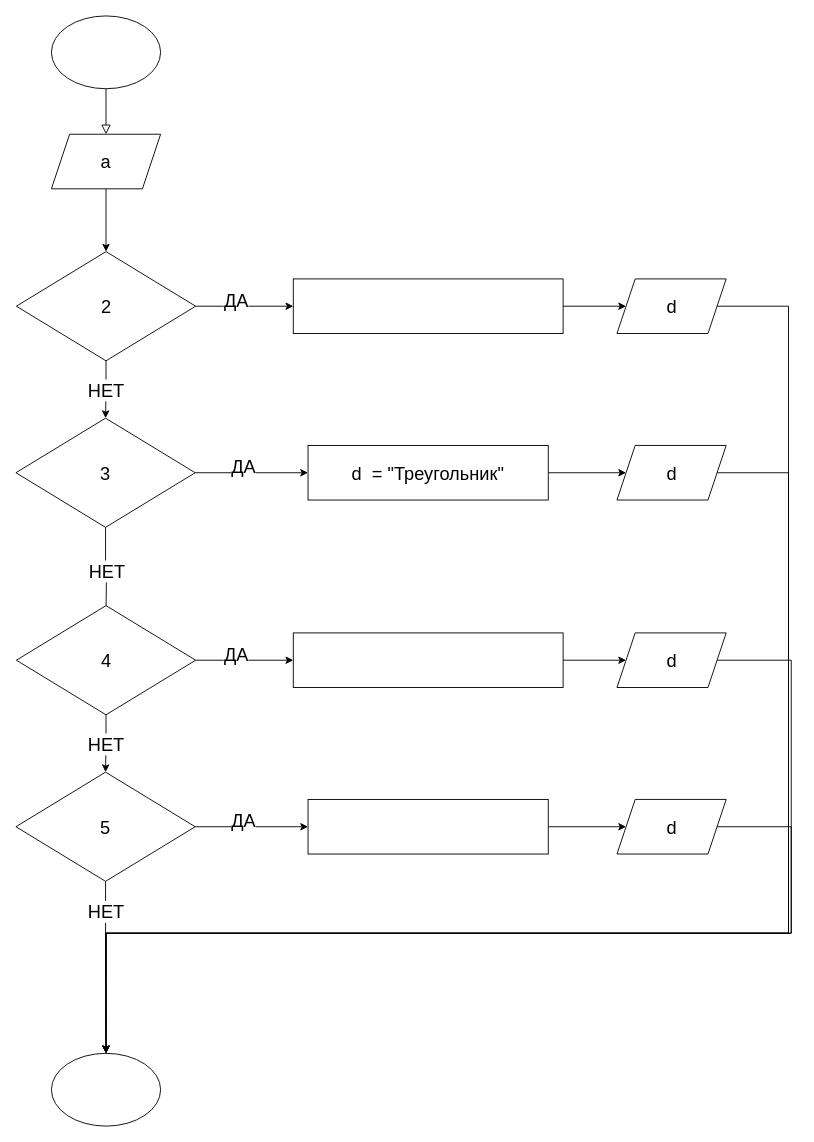
Image size: 814x1142. Some labels were removed from this diagram. Here are the shapes that lost their labels. From the top down, the centre of each, then its label:
point (106, 52): start
point (427, 306): d = "Отрезок"
point (427, 660): d = "Четырёхугольник"
point (427, 826): d = "Пятиугольник"
point (106, 1089): end
